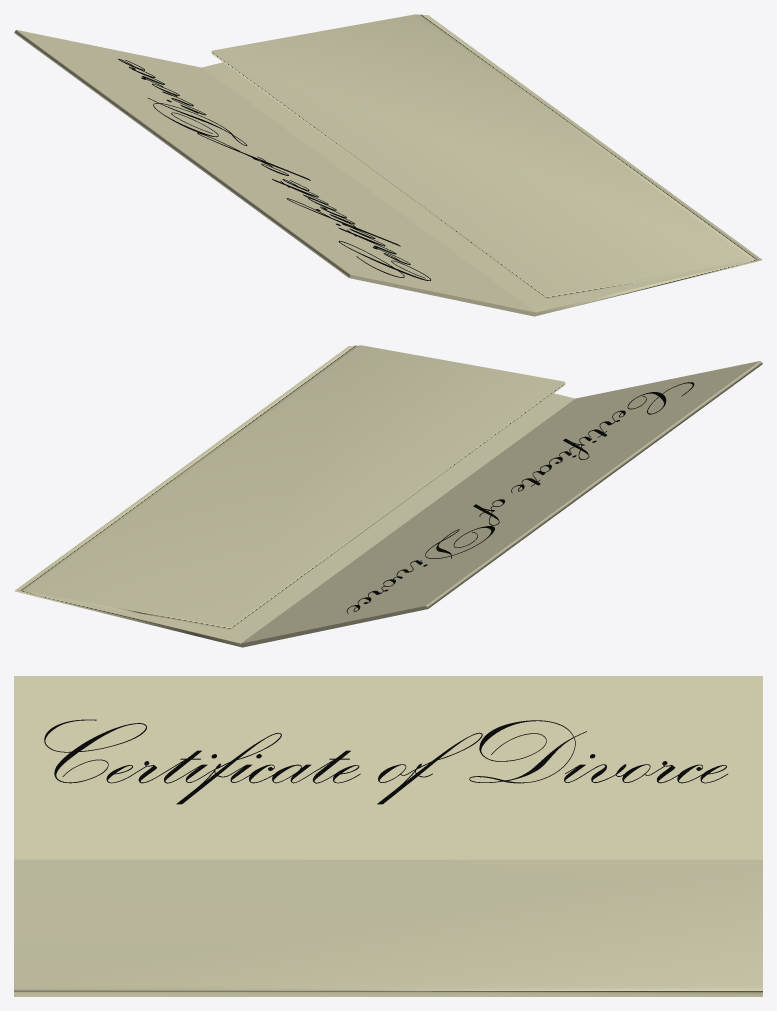
File: divorce3.fbx
3 renders of one model, top to bottom at view 1: azimuth 30°, elevation 25°; view 2: azimuth 150°, elevation 25°; view 3: azimuth 270°, elevation 25°, orthographic. The views are drawn at different scales.
Parts seen in each view (by area): view 1: Cube.001, Certific; view 2: Cube.001, Certific; view 3: Cube.001, Certific.
Part boxes in pixels (x1=…): Cube.001: x1=14, y1=14, x2=762, y2=316; Certific: x1=118, y1=58, x2=430, y2=280; Cube.001: x1=14, y1=345, x2=762, y2=647; Certific: x1=346, y1=382, x2=694, y2=613; Cube.001: x1=14, y1=676, x2=762, y2=996; Certific: x1=44, y1=719, x2=727, y2=804.
Bounding box in the file's own units: 103 × 20.51 × 144.
